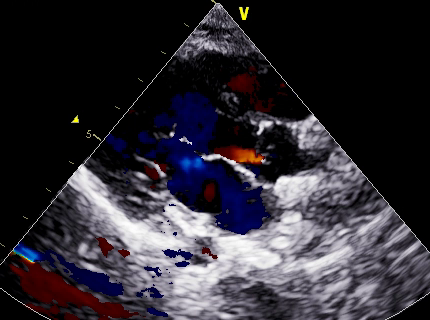MR: (147, 132, 207, 198)
